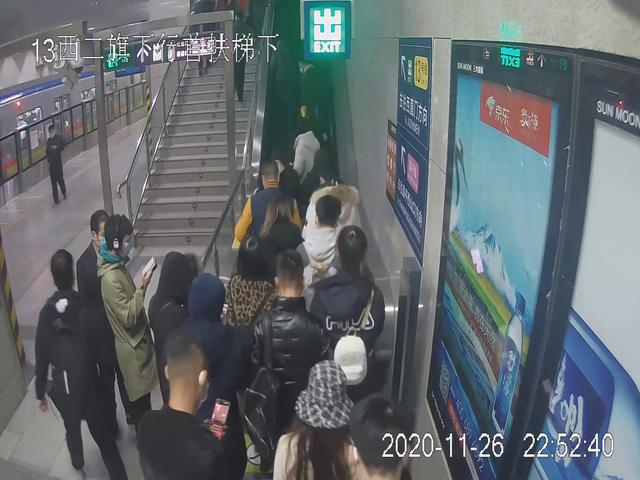person: (31, 249, 119, 480), (250, 248, 337, 461), (140, 333, 244, 480), (95, 218, 159, 440), (312, 227, 385, 395), (40, 122, 66, 210)
